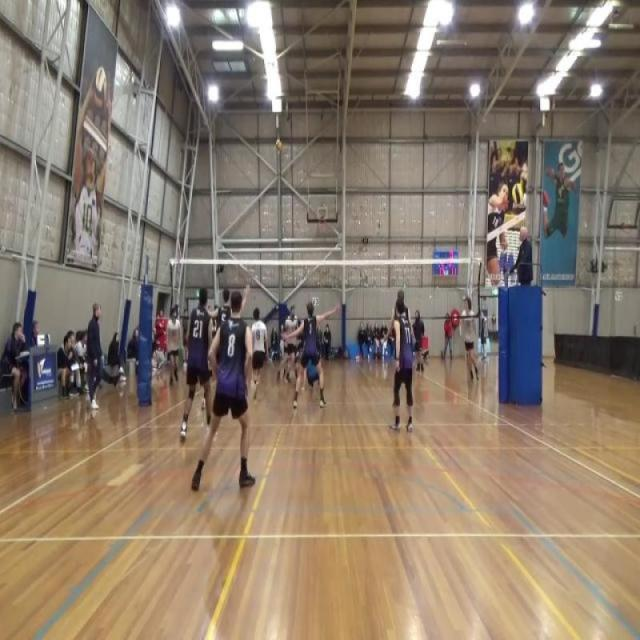volleyball: (94, 65, 109, 113), (510, 183, 522, 206), (276, 138, 282, 152)
